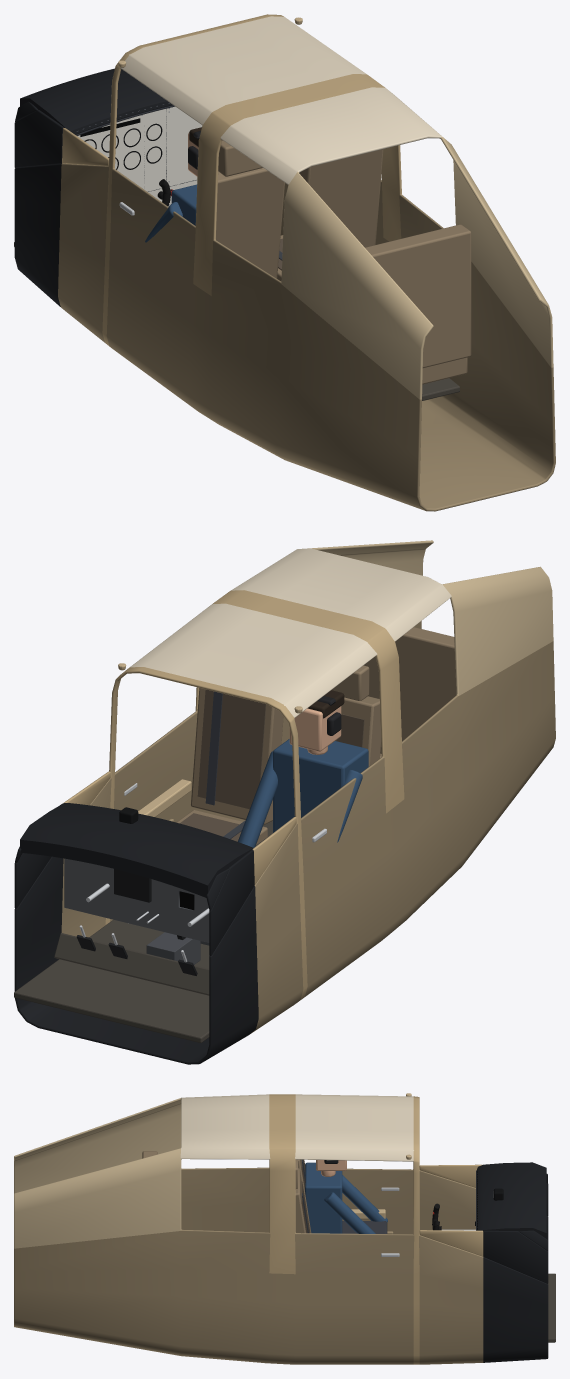
File: c172-cabin.glb
The picture shows the model from 3 angles, top to bottom: view 1: azimuth 30°, elevation 25°; view 2: azimuth 150°, elevation 25°; view 3: azimuth 270°, elevation 25°; orthographic projection. The views are drawn at different scales.
Visible parts, largest first — view 1: cabin_lining, seats, panel_decals, glareshield, pilot, floor_doors; view 2: cabin_lining, floor_doors, glareshield, seats, pilot, seat_details, panel, instrument_cans, pedestal; view 3: cabin_lining, glareshield, pilot, floor_doors, seats.
Part boxes in pixels (x1,y1,x2,y2): cabin_lining: (14, 14, 555, 511); seats: (216, 140, 471, 384); panel_decals: (77, 106, 202, 206); glareshield: (20, 68, 172, 134); pilot: (145, 127, 201, 242); floor_doors: (14, 17, 459, 400); cabin_lining: (14, 540, 555, 1064); floor_doors: (14, 663, 326, 1042); glareshield: (20, 803, 253, 897); seats: (128, 627, 456, 923); pilot: (238, 690, 368, 847); seat_details: (180, 689, 364, 841); panel: (64, 858, 209, 942); instrument_cans: (114, 869, 194, 910); pedestal: (146, 932, 209, 964); cabin_lining: (14, 1094, 548, 1364); glareshield: (477, 1162, 546, 1238); pilot: (305, 1160, 387, 1233); floor_doors: (351, 1093, 555, 1342); seats: (142, 1151, 311, 1233).
Bounding box in the file's own units: 1.07 × 1.55 × 3.5.
